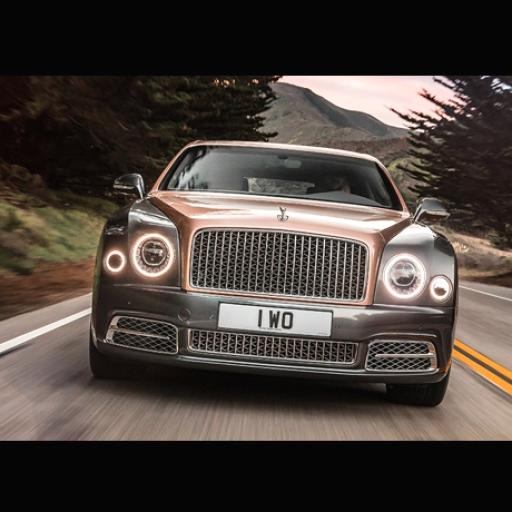sedan: (89, 140, 455, 404)
